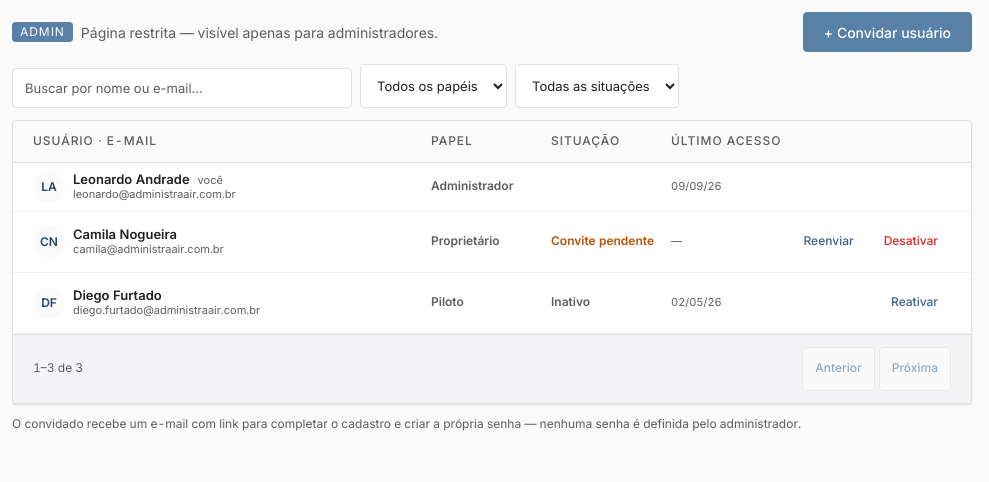
Scenario: PaginaDeUsuarios › ações na linha › reenviar confirma para quem foi o convite e quanto ele vale
Click the button with aria-label "Reenviar convite para Camila Nogueira".
click(829, 242)  # box [790,220,867,264]
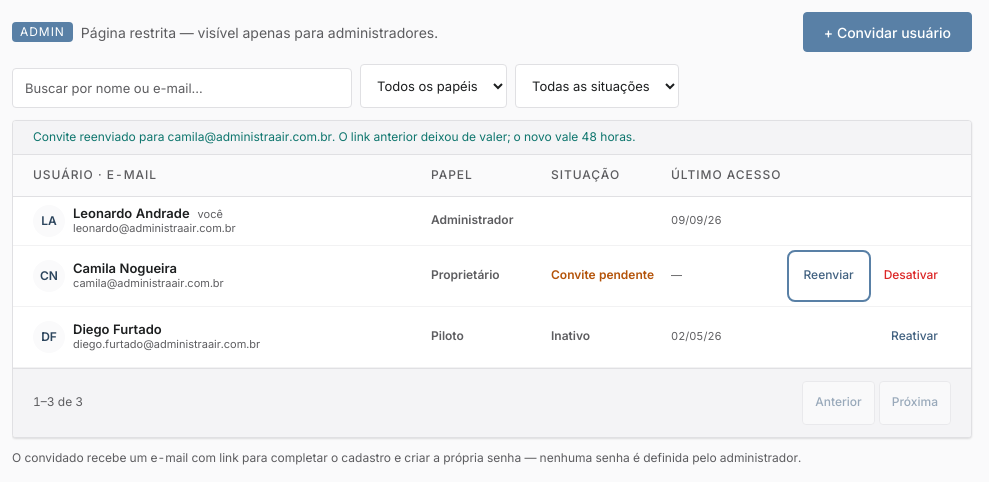
Expected: the text "Convite reenviado para camila@administraair.com.br. O link anterior deixou de valer; o novo vale 48 horas." is shown, [33,129,635,144]
